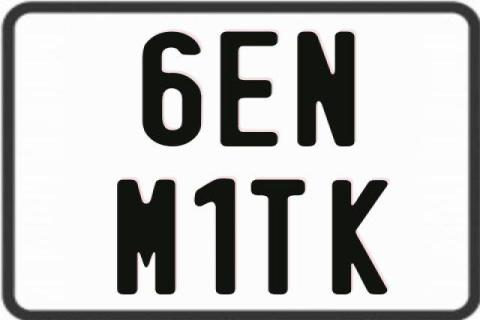0: (141, 31, 204, 149), (192, 178, 236, 296)
E: (220, 30, 284, 146)
K: (329, 177, 388, 293)
M: (115, 177, 177, 293)
N: (297, 29, 361, 144)
T: (248, 177, 304, 292)
